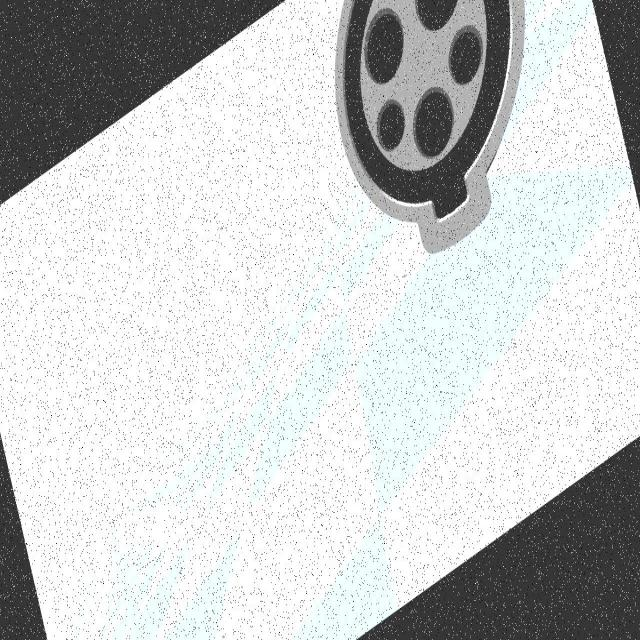Type 1: (321, 0, 564, 311)
